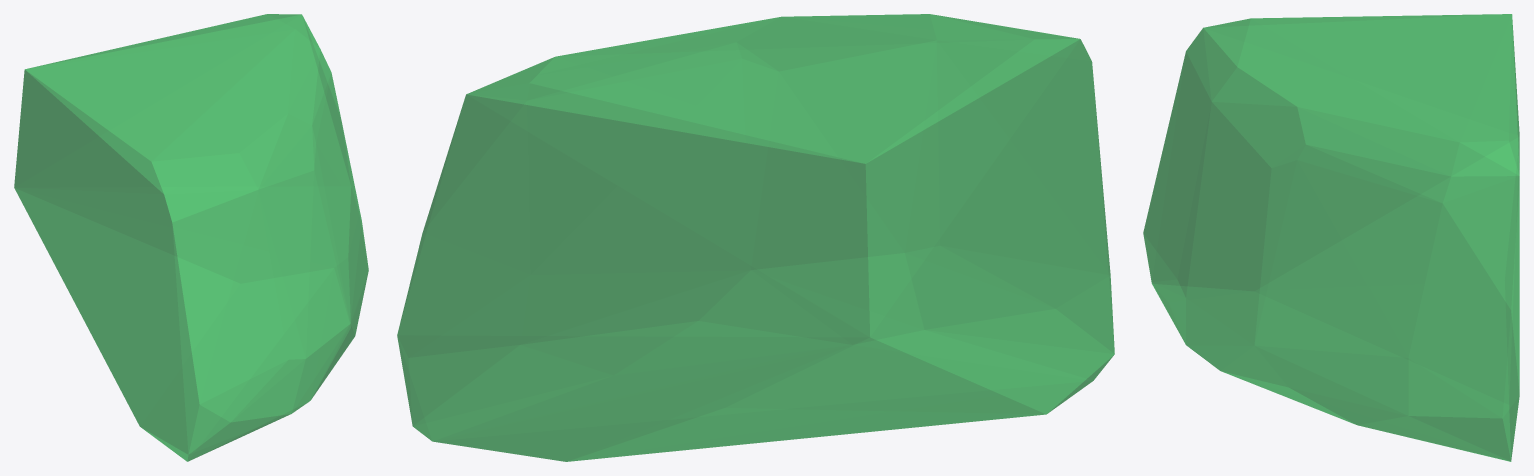
3 views of the same model, side by side, from view 1: azimuth 30°, elevation 25°; view 2: azimuth 150°, elevation 25°; view 3: azimuth 270°, elevation 25° (orthographic). The views are drawn at different scales.
Visible parts, largest first — view 1: Shape_IndexedFaceSet.001_Shape_IndexedFaceSet.9136; view 2: Shape_IndexedFaceSet.001_Shape_IndexedFaceSet.9136; view 3: Shape_IndexedFaceSet.001_Shape_IndexedFaceSet.9136.
Part boxes in pixels (x1,y1,x2,y2): Shape_IndexedFaceSet.001_Shape_IndexedFaceSet.9136: [14, 14, 368, 461]; Shape_IndexedFaceSet.001_Shape_IndexedFaceSet.9136: [397, 14, 1114, 461]; Shape_IndexedFaceSet.001_Shape_IndexedFaceSet.9136: [1143, 14, 1519, 461].
Size of the model in its own units: 0.1289 by 0.1 by 0.1182.
